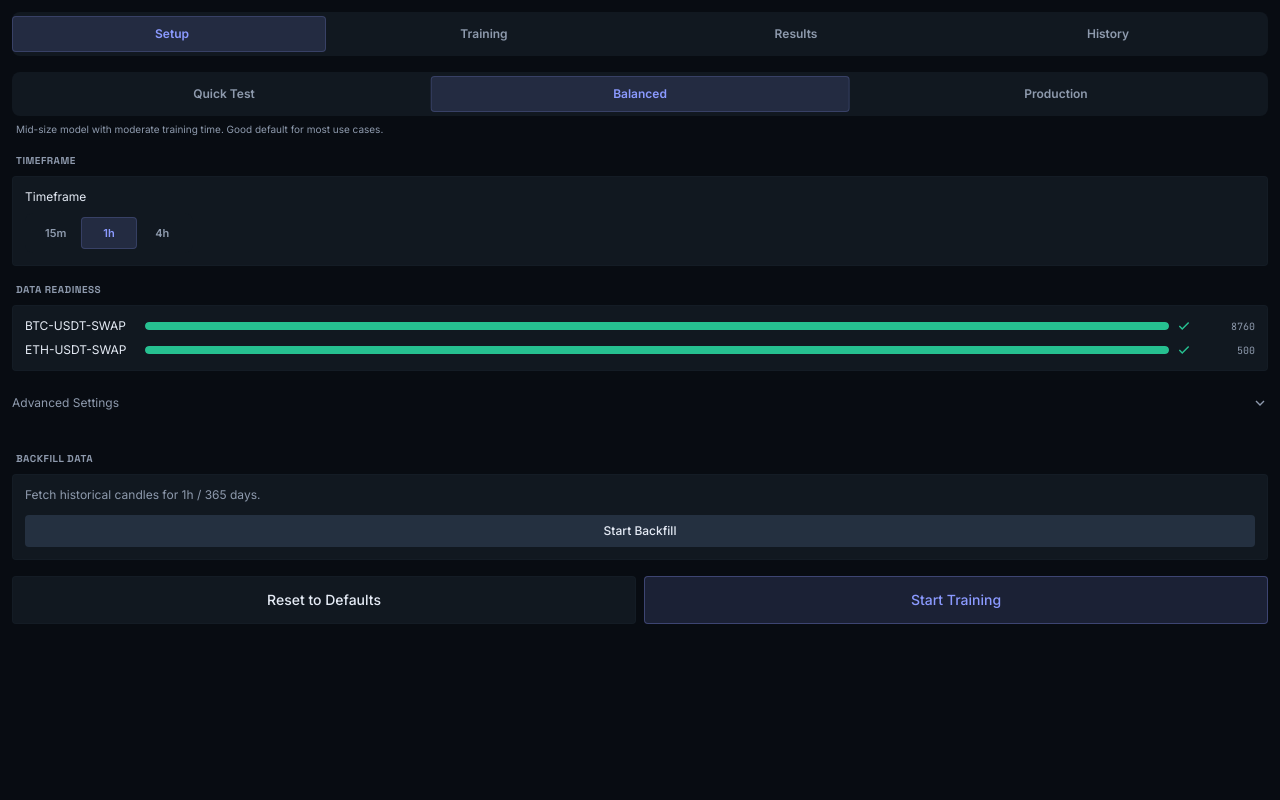
Scenario: MLTrainingView › Setup Tab › should show confirmation dialog when Start Training is clicked
This screenshot has width=1280, height=800.
Click the button "Start Training": (956, 600) [644,576,1268,624]
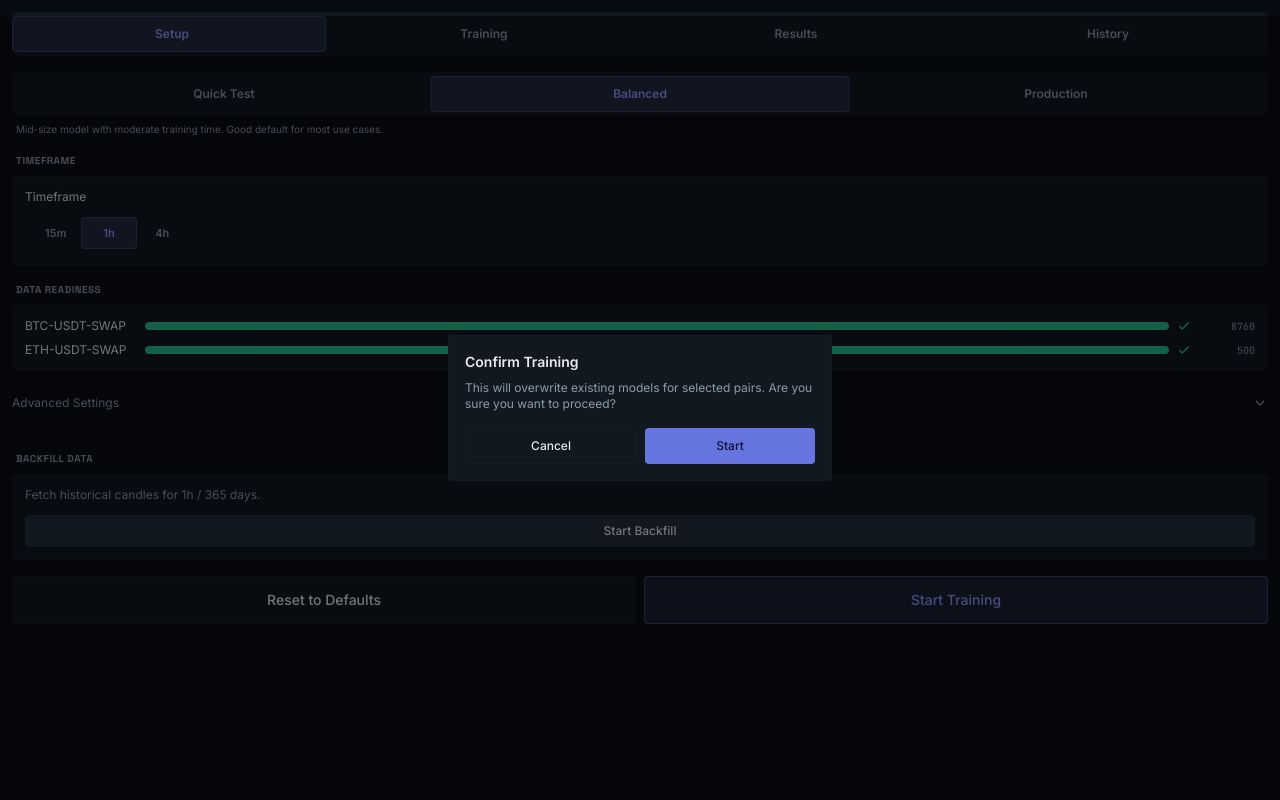
Expected: the heading "Confirm Training" is shown, [465,353,579,370]
